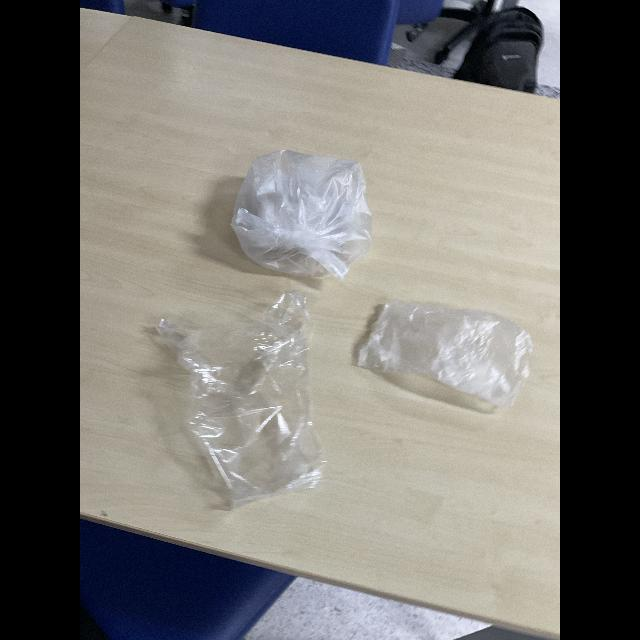plastic_bag: (226, 132, 384, 280)
scrap_plastic: (153, 286, 321, 516), (348, 292, 544, 406)
